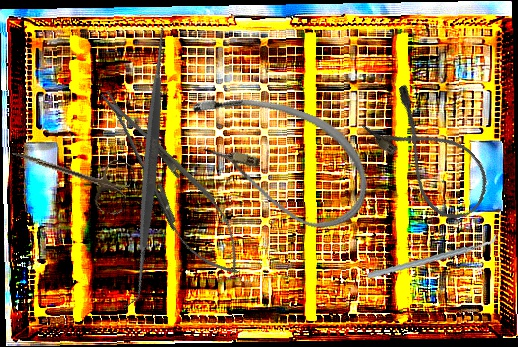Cannula: (167, 75, 386, 241), (357, 80, 502, 231)
Chopper: (366, 216, 500, 296)
Iris Scissors: (3, 130, 137, 217)
Needle Holder: (83, 76, 259, 290)
Spatula Surgical: (5, 18, 295, 309)
